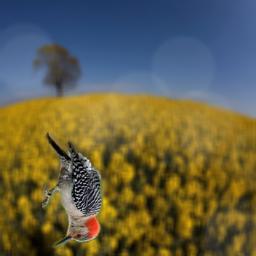Woodpecker: (42, 126, 108, 250)
